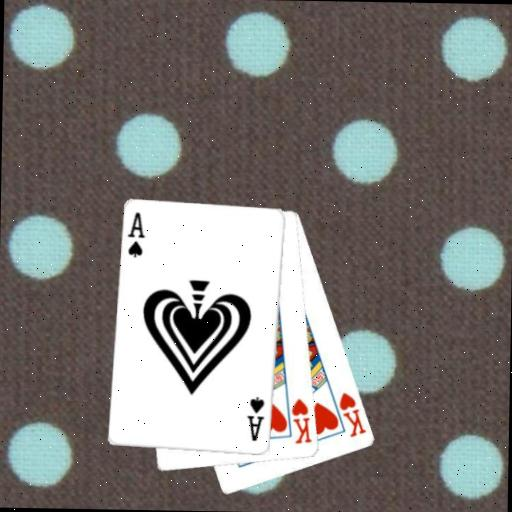AS: (243, 394, 267, 443), (125, 209, 147, 260)
KH: (336, 389, 369, 440), (288, 396, 314, 446)
